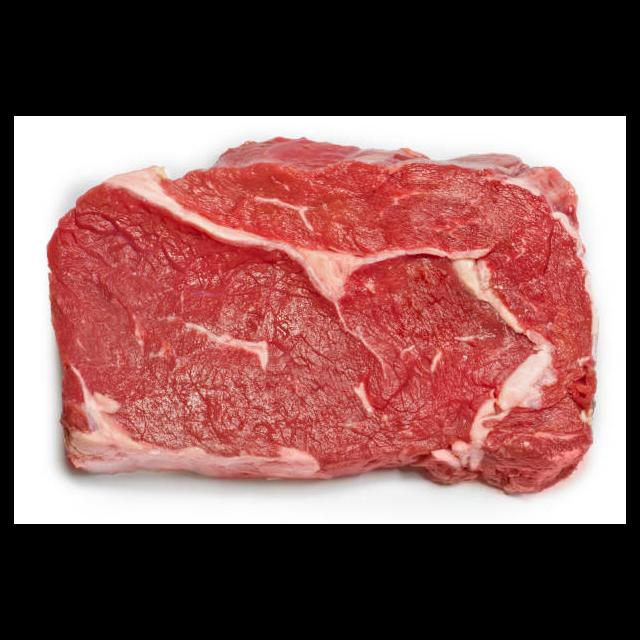beef: (46, 135, 598, 496)
